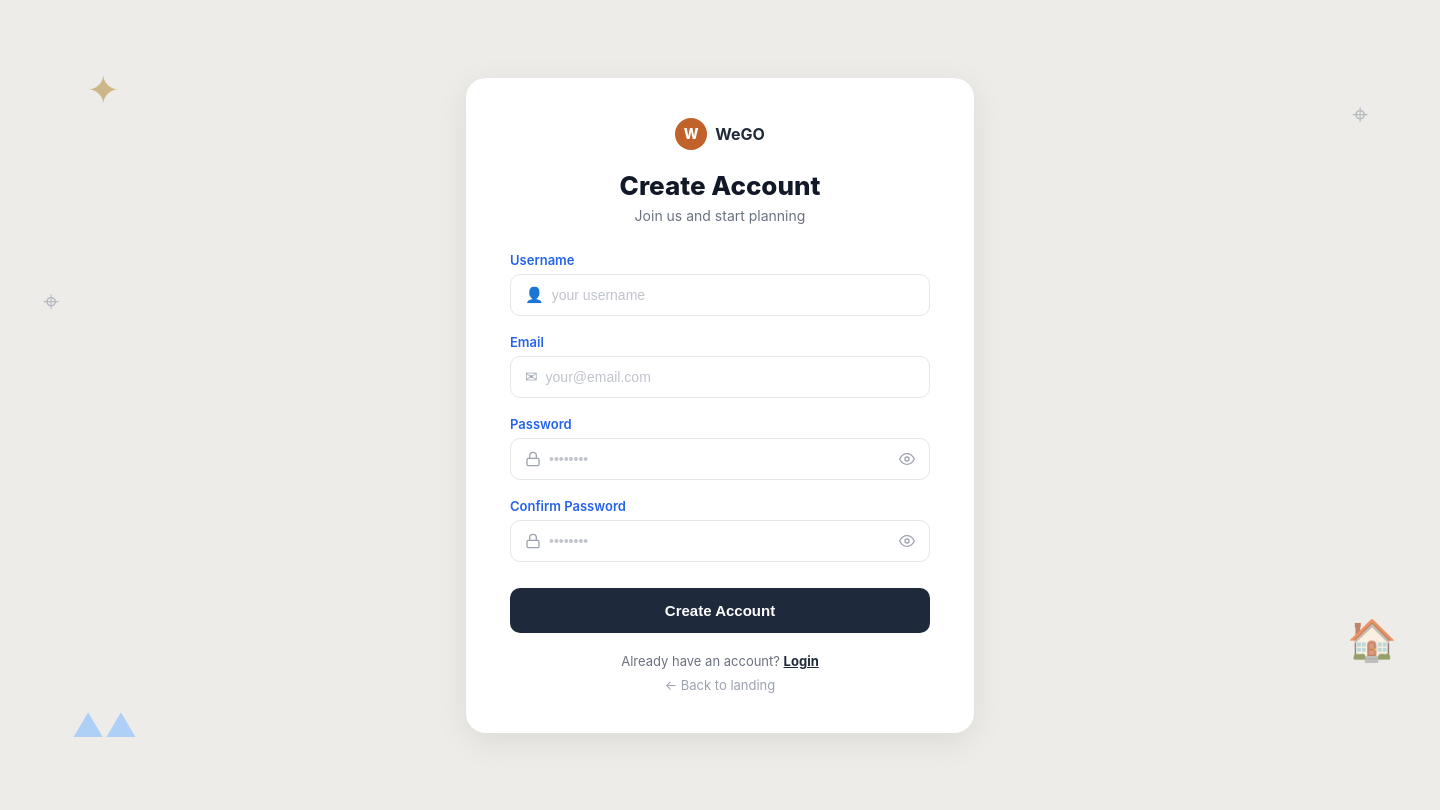
Test: RegisterPage — password validation › shows match feedback when passwords are equal
The width and height of the screenshot is (1440, 810).
Type "secret123" into the password field labelled "Password". click: [720, 458]
box: [549, 438, 891, 478]
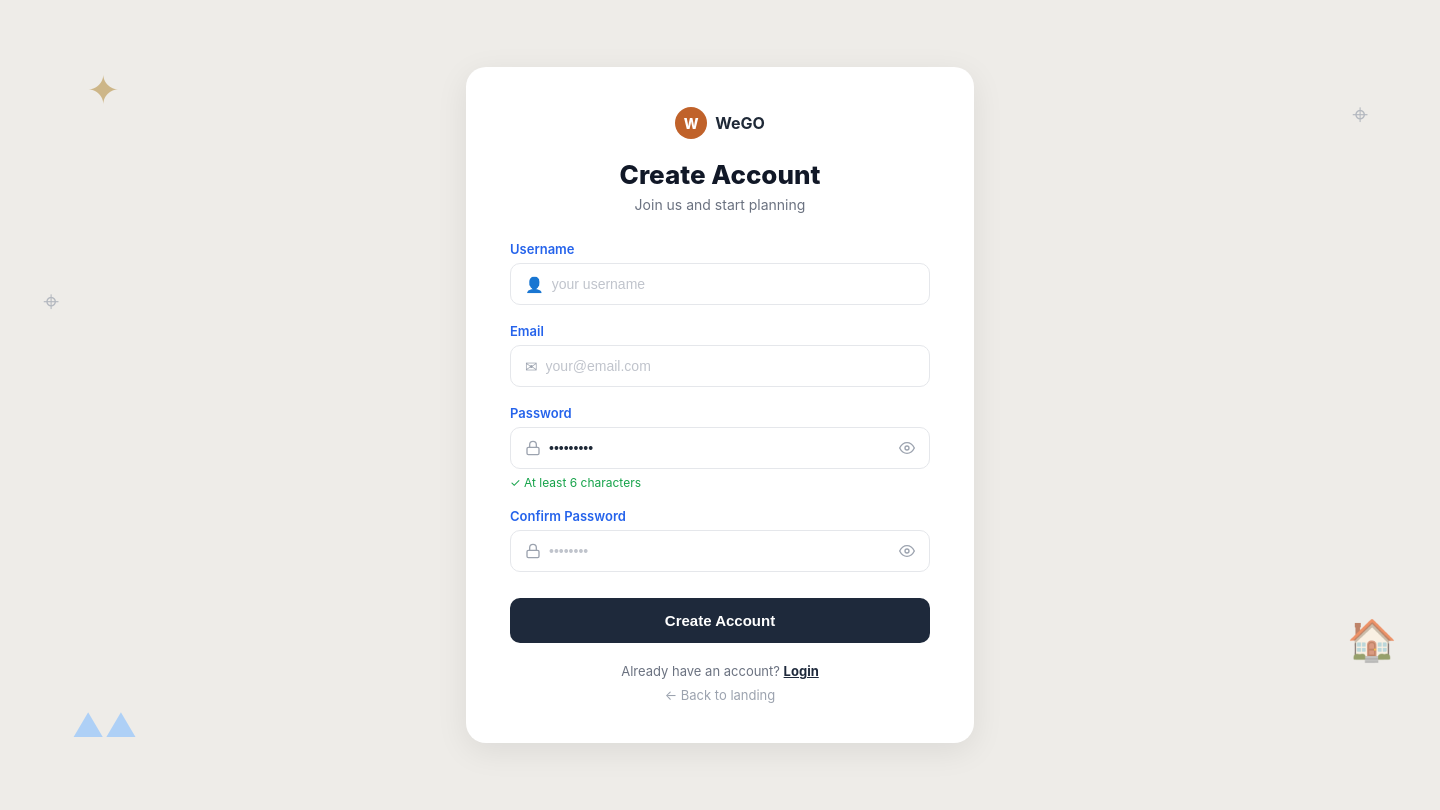
Type "secret123" into the password field labelled "Confirm Password". click: [720, 551]
box: [549, 531, 891, 571]
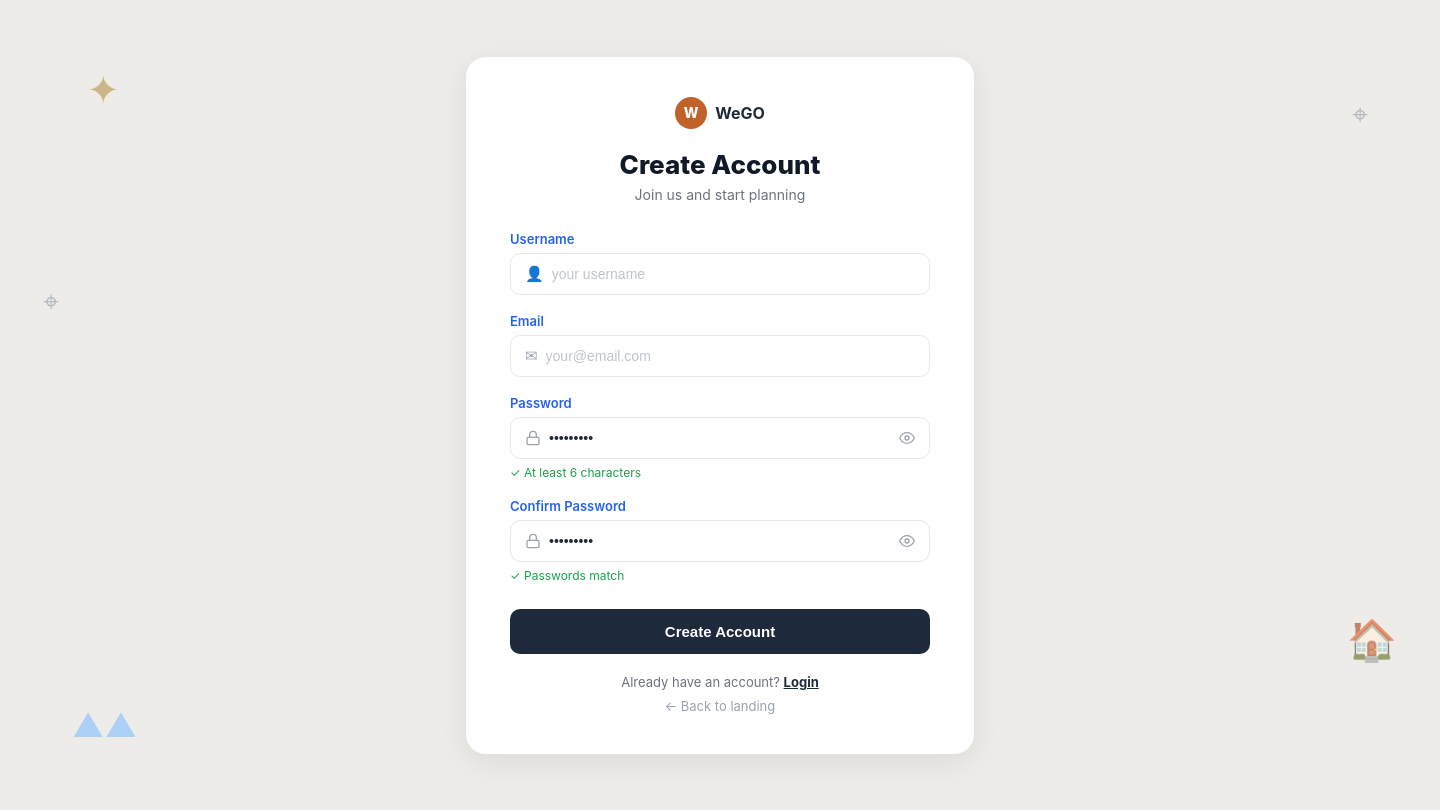
Expected: the text "✓ Passwords match" is shown, [510, 568, 624, 582]
